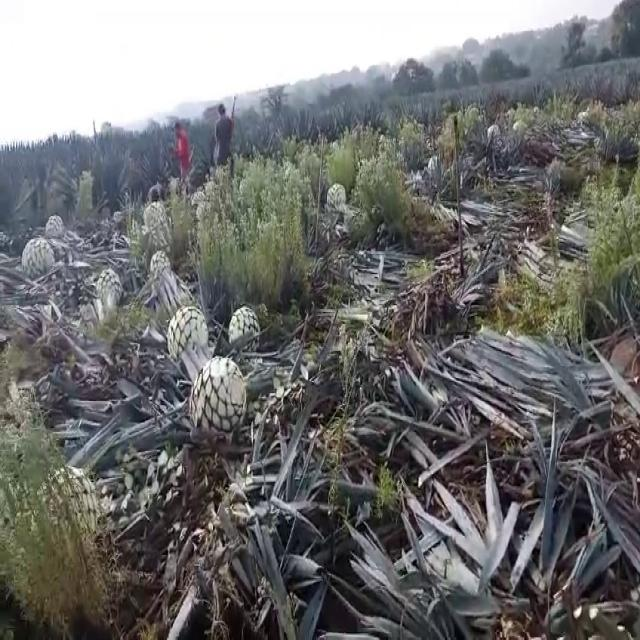agave: (187, 354, 250, 436), (163, 297, 218, 380), (224, 297, 261, 359), (18, 236, 57, 286), (95, 265, 124, 309), (142, 200, 171, 244), (148, 250, 174, 291), (44, 212, 68, 240), (327, 181, 348, 212)
